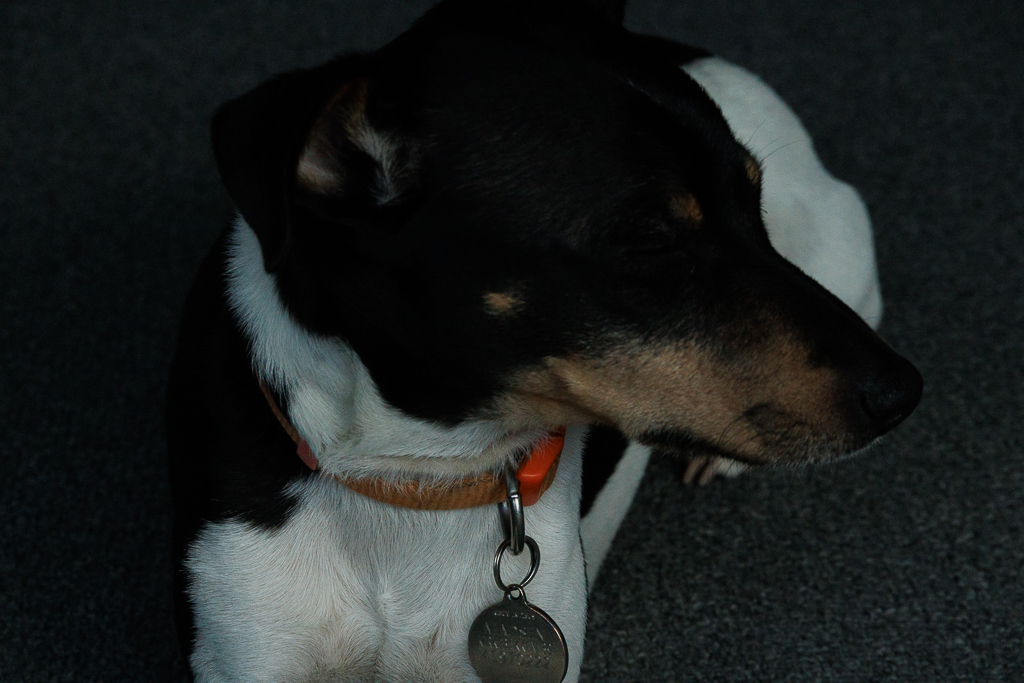Dog: (99, 0, 938, 683)
